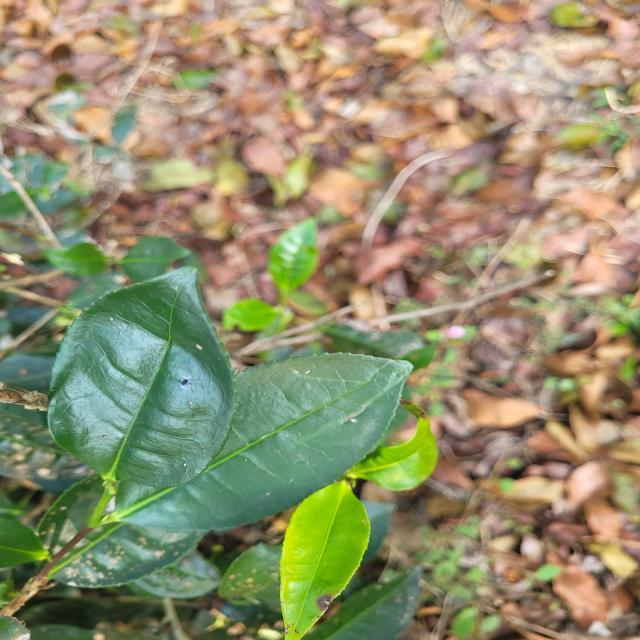Category D(7+ days, Not for Tea): (24, 243, 248, 530)
